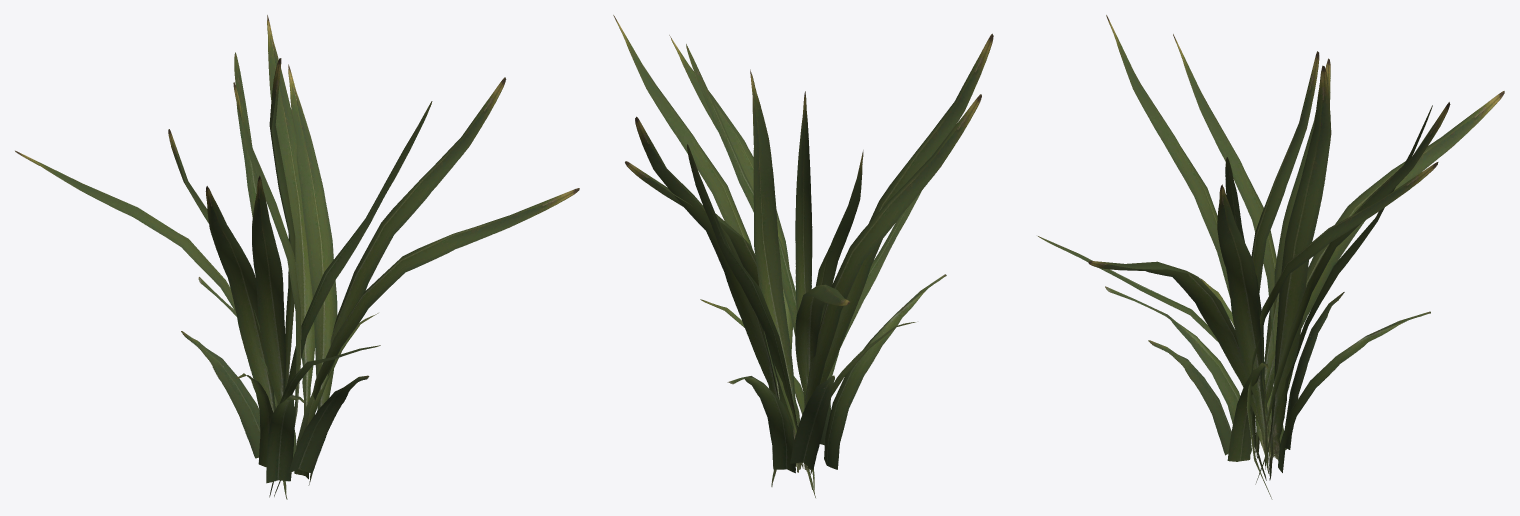
Rendered from Plant Gras.fbx.
The picture shows the model from 3 angles, left to right: view 1: azimuth 30°, elevation 25°; view 2: azimuth 150°, elevation 25°; view 3: azimuth 270°, elevation 25°; orthographic projection. The views are drawn at different scales.
Visible parts, largest first — view 1: Plane.021; view 2: Plane.021; view 3: Plane.021.
Boxes of the visible parts, box(x1,y1,x2,y2) form: Plane.021: box(15, 15, 579, 499); Plane.021: box(613, 15, 993, 497); Plane.021: box(1038, 15, 1504, 499).
Bounding box in the file's own units: 30 × 31.91 × 31.73.
